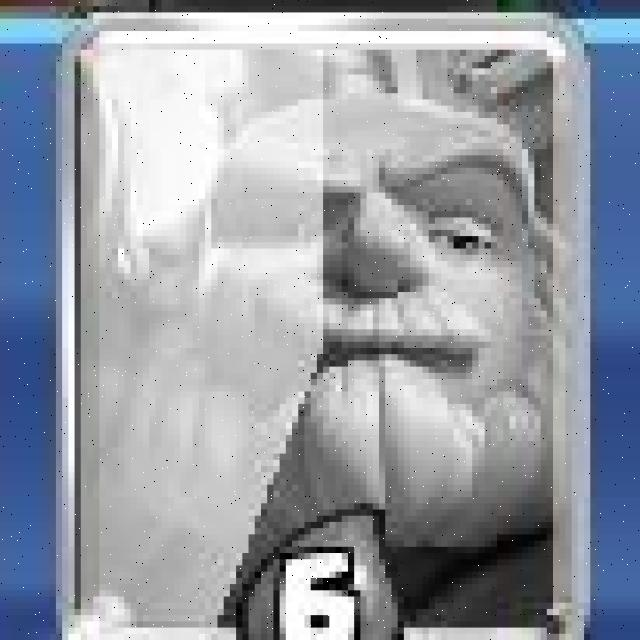Royal_Giant: (55, 14, 583, 640)
